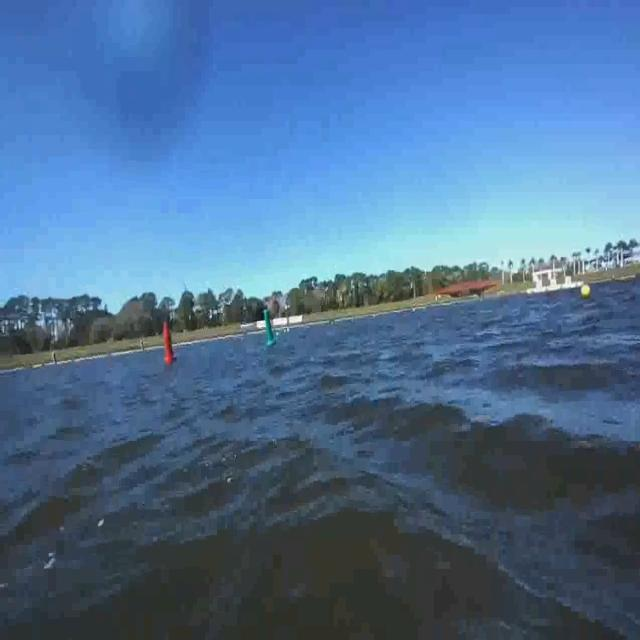green-column-buoy: (263, 300, 276, 347)
red-column-buoy: (158, 314, 182, 372)
